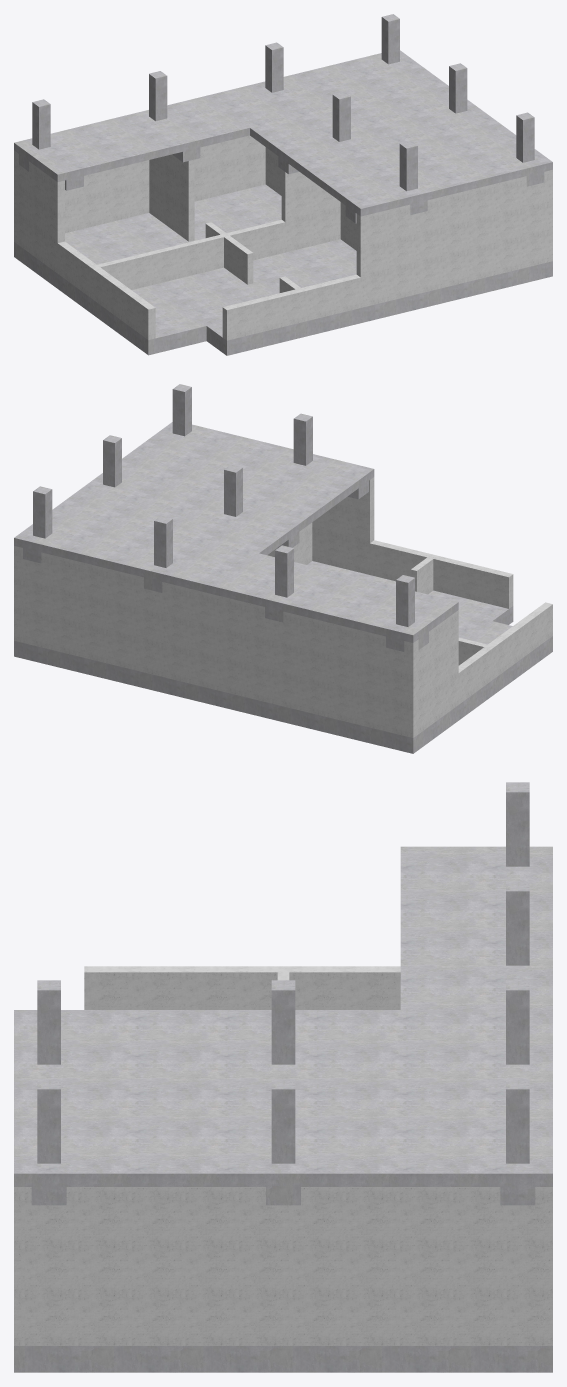
3 views of the same model, one above another, from view 1: azimuth 30°, elevation 25°; view 2: azimuth 150°, elevation 25°; view 3: azimuth 270°, elevation 25° (orthographic). The views are drawn at different scales.
Parts seen in each view (by area): view 1: 内外墙, 顶板及梁, 板, 柱; view 2: 内外墙, 顶板及梁, 板, 柱; view 3: 顶板及梁, 内外墙, 柱, 板.
Boxes of the visible parts, left/top/right/bottom form: 内外墙: left=14, top=135, right=552, bottom=340; 顶板及梁: left=14, top=50, right=552, bottom=223; 板: left=14, top=184, right=552, bottom=355; 柱: left=32, top=14, right=534, bottom=191; 内外墙: left=14, top=477, right=552, bottom=737; 顶板及梁: left=14, top=422, right=458, bottom=651; 板: left=14, top=561, right=552, bottom=753; 柱: left=33, top=384, right=414, bottom=626; 顶板及梁: left=14, top=846, right=552, bottom=1205; 内外墙: left=14, top=966, right=552, bottom=1345; 柱: left=37, top=782, right=529, bottom=1163; 板: left=14, top=1346, right=552, bottom=1372.
Bounding box in the file's own units: 13.2 × 5.15 × 9.2.
Materials: 4 (4 with a texture image).
